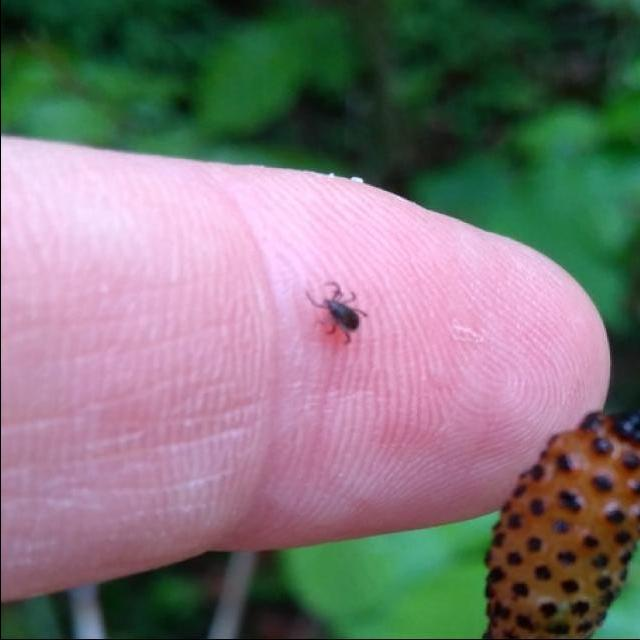Ixodes Ricinus-M: (290, 271, 389, 349)
